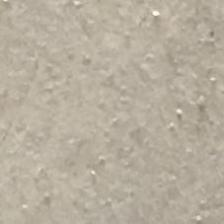Non_Crack: (17, 25, 220, 218)
